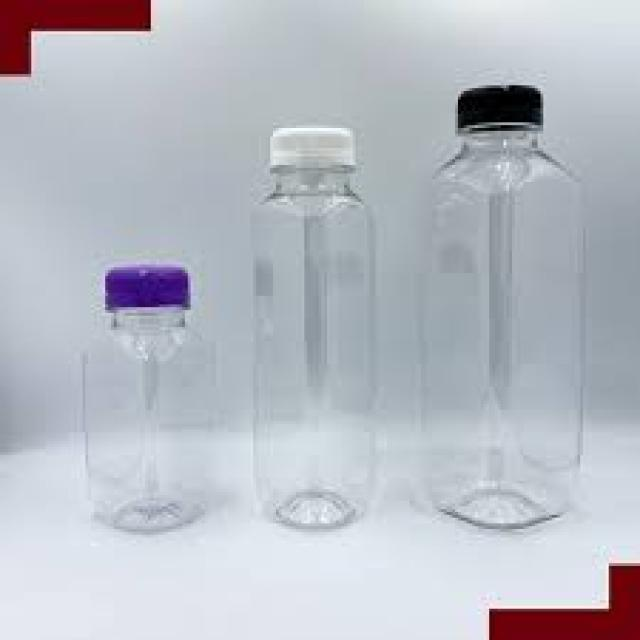bottle: (398, 66, 593, 544), (215, 100, 391, 545), (80, 243, 206, 562)
